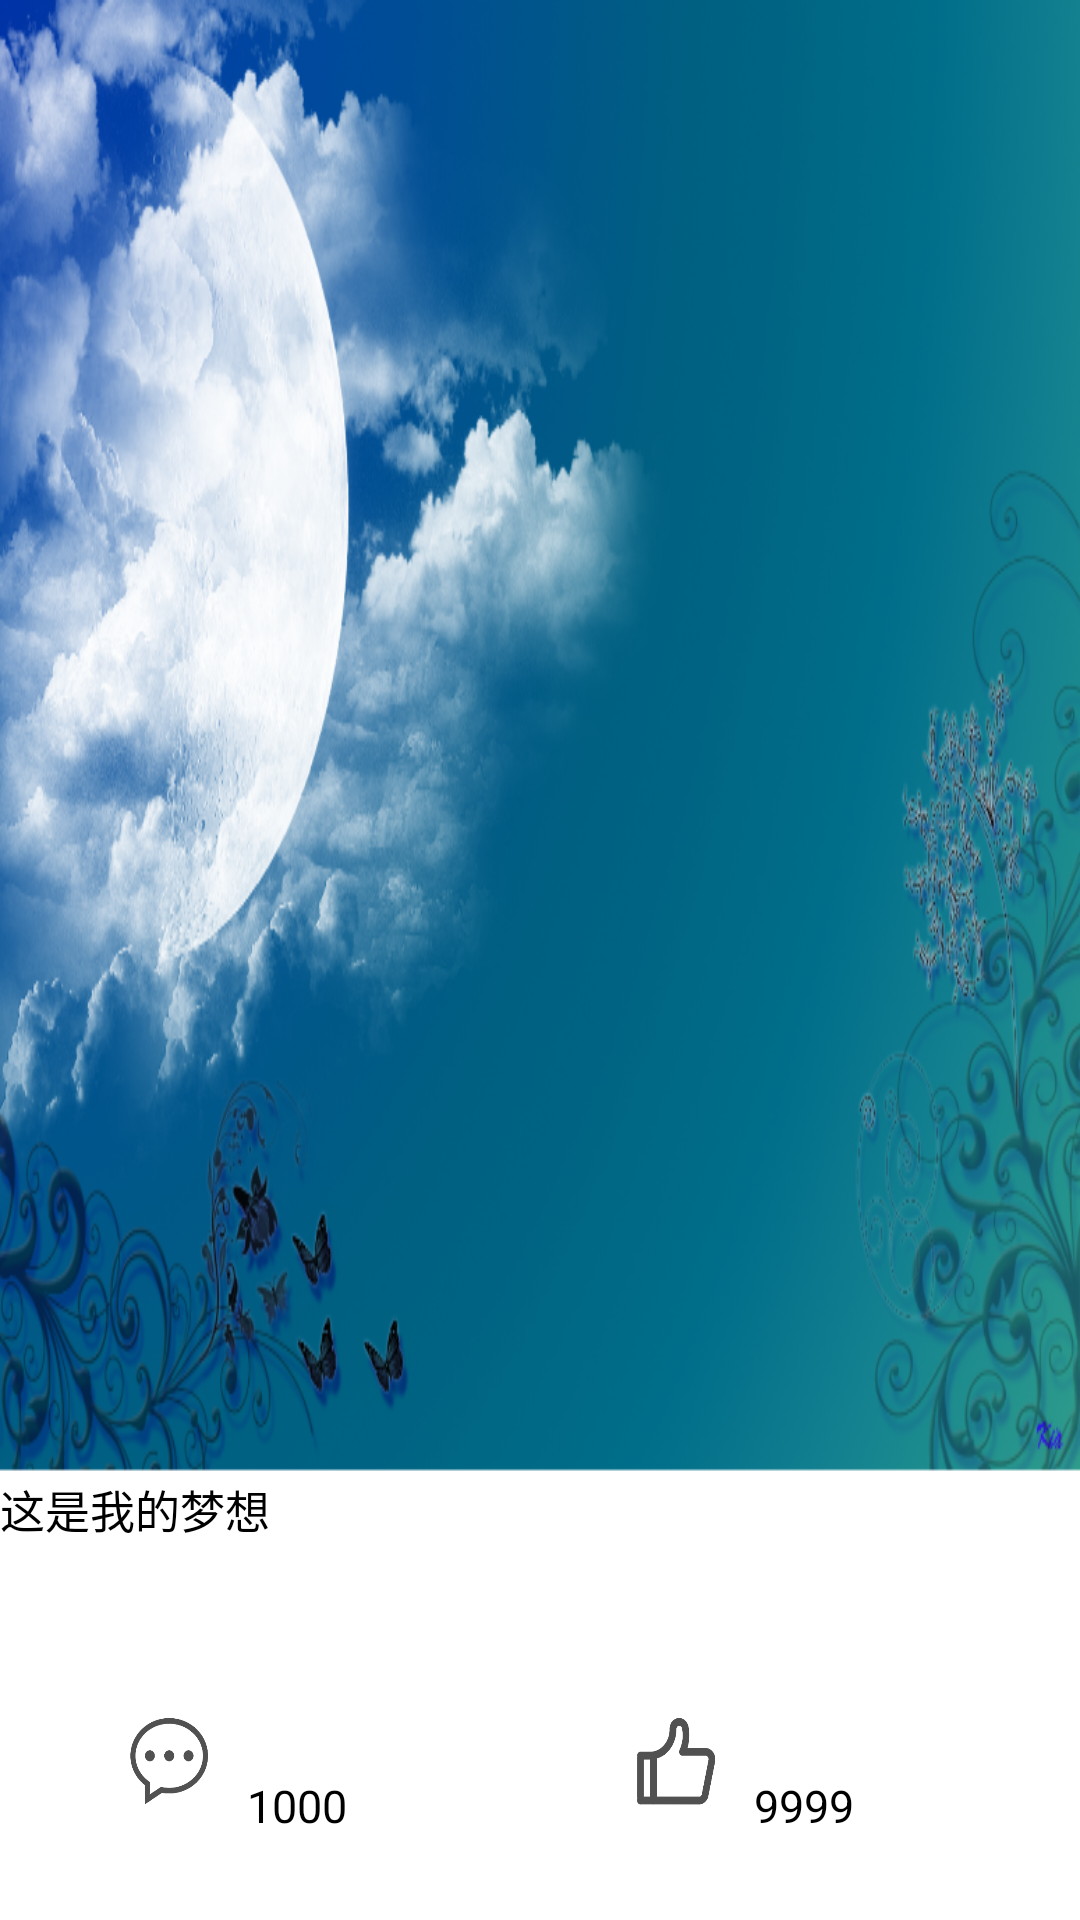

Icons on this 1080*1920 Android screen, each with the point to tap as [x,y]:
comment: [169,1761]
